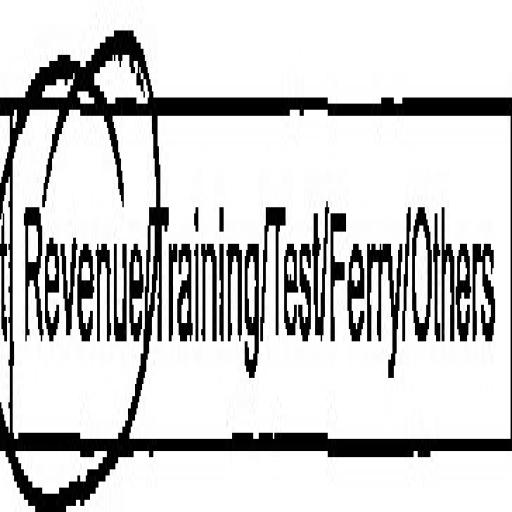check: (3, 0, 148, 512)
